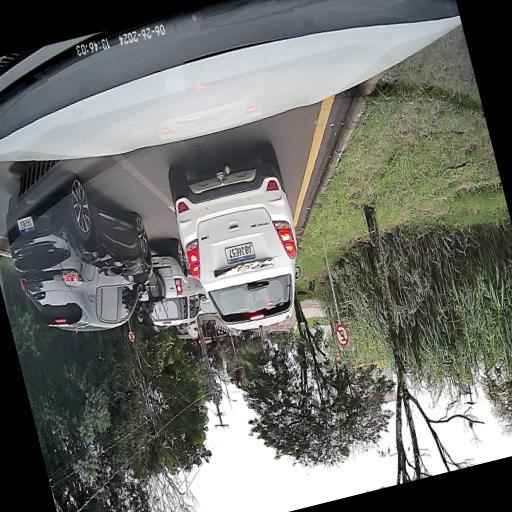R-6a: (332, 321, 350, 347)
R-6c: (126, 328, 136, 344)
